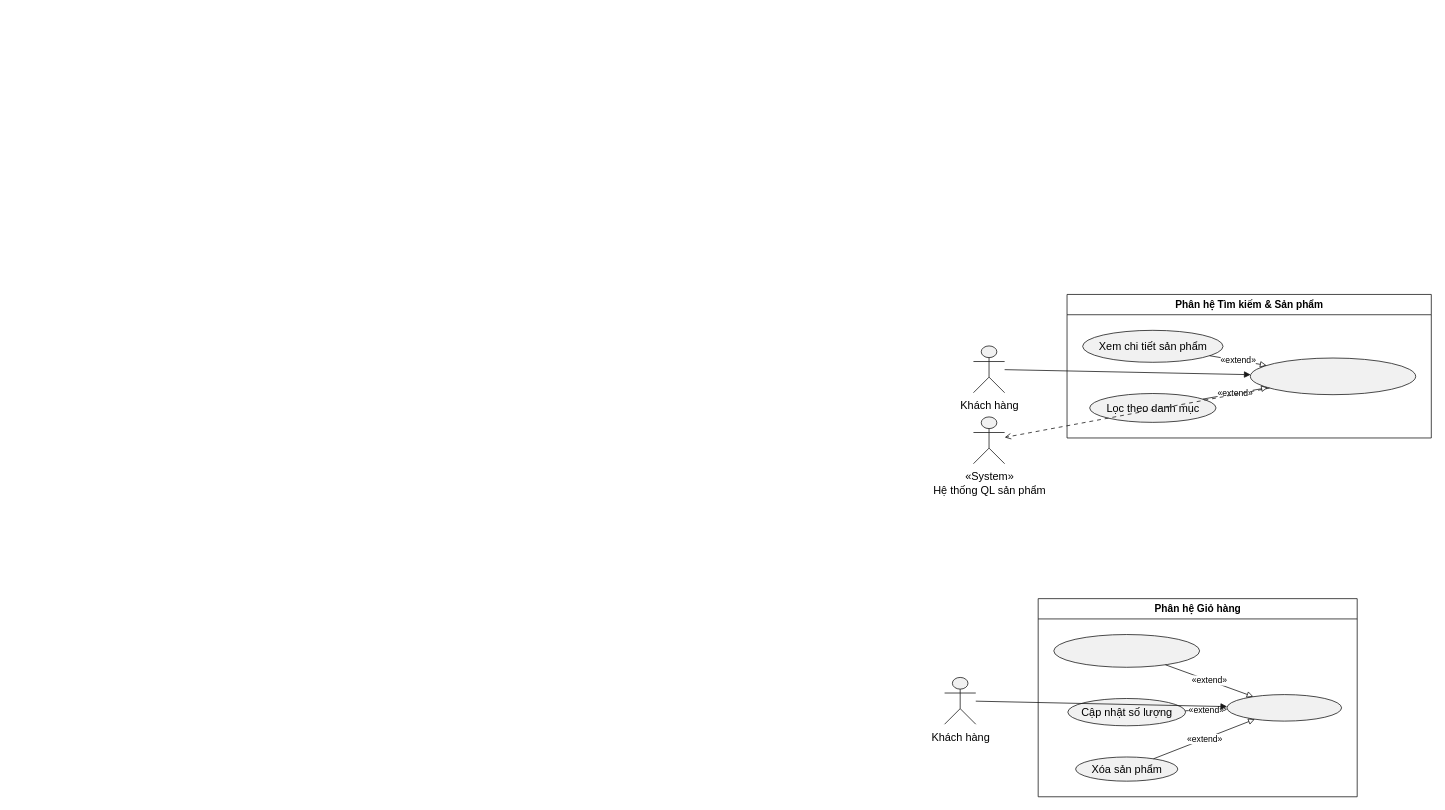
This 1445x810 diagram has some shape labels left out. Each missing label, with the centre of its shape:
Quản lý giỏ hàng: the point at 1284,707
Thêm sản phẩm vào giỏ: the point at 1126,650
Xem và tìm kiếm sản phẩm: the point at 1333,376
